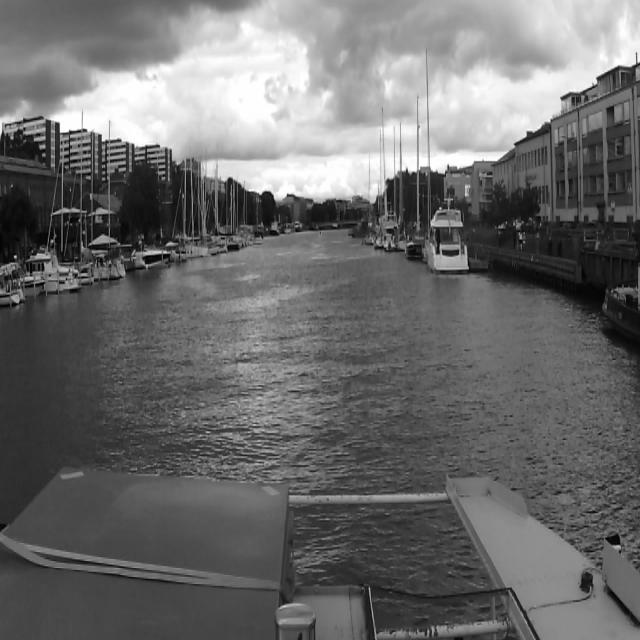ship: (426, 196, 468, 274), (1, 262, 43, 300), (133, 246, 171, 270), (350, 224, 372, 238), (268, 212, 278, 234), (294, 218, 302, 231)
